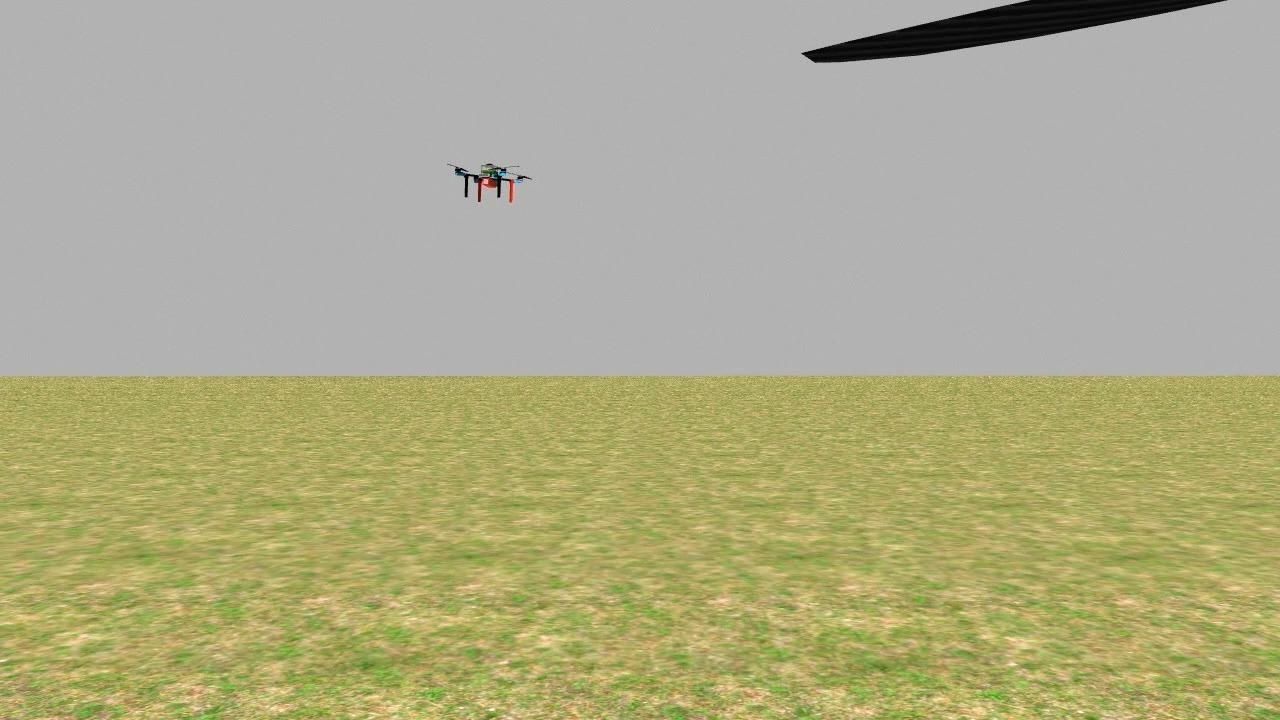UAV: (426, 130, 554, 228)
